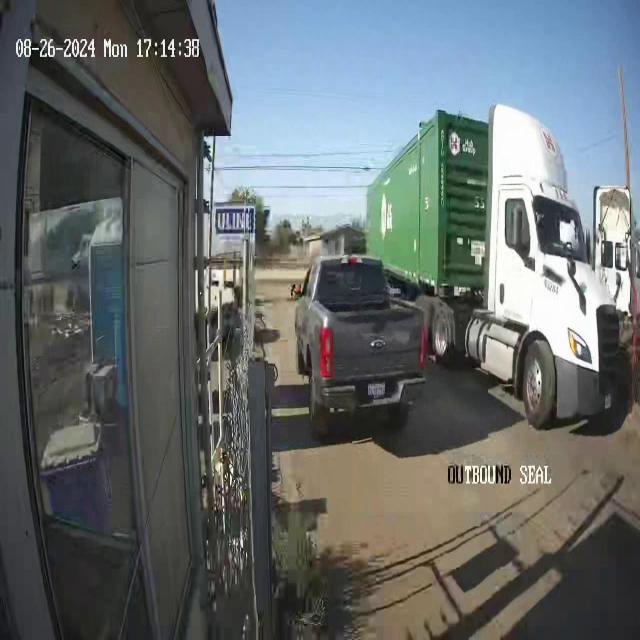TRUCK_CONTAINER: (364, 99, 624, 431)
